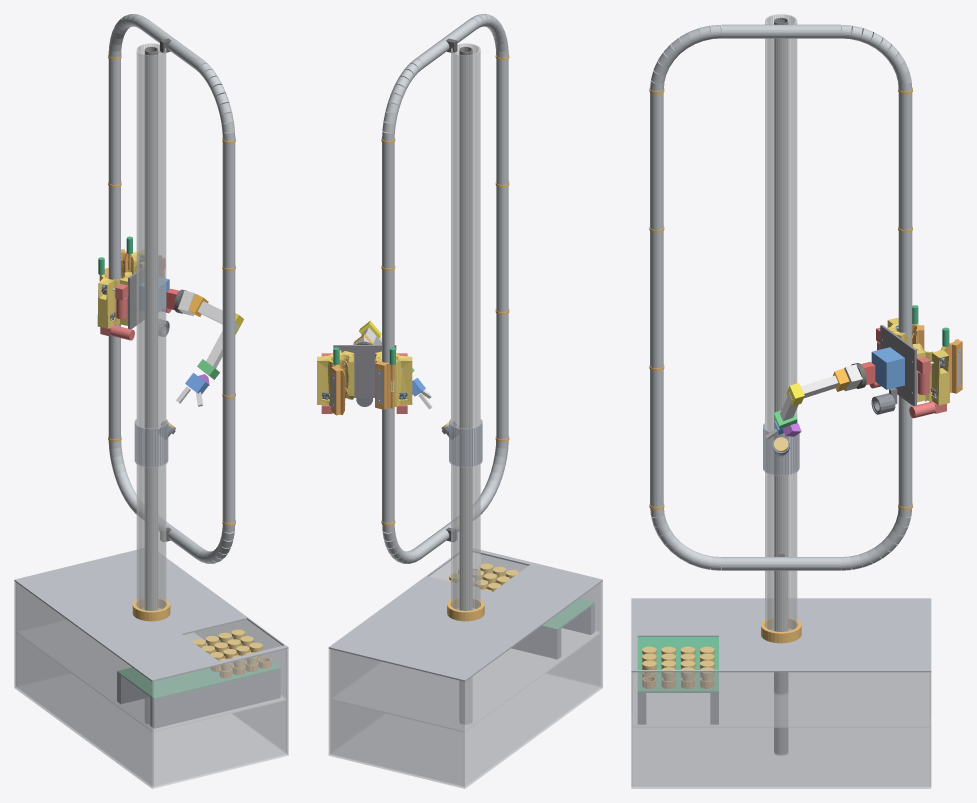
The model's file is transplant-seedling-step4-seat-v11.glb.
3 views of the same model, side by side, from view 1: azimuth 30°, elevation 25°; view 2: azimuth 150°, elevation 25°; view 3: azimuth 270°, elevation 25° (orthographic). The views are drawn at different scales.
Bounding box in the file's own units: 0.4913 × 1.9 × 0.7736.
